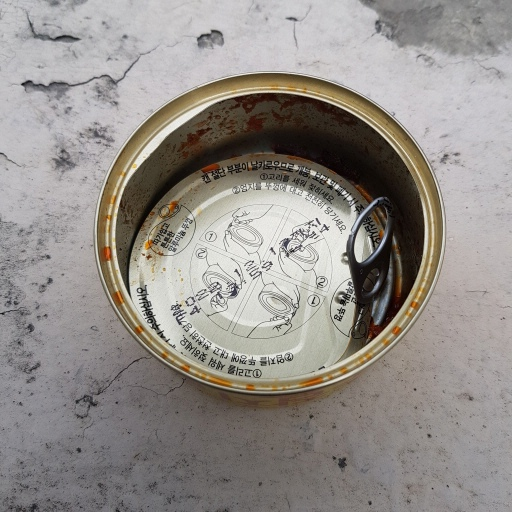Metal_1: (94, 69, 449, 404)
